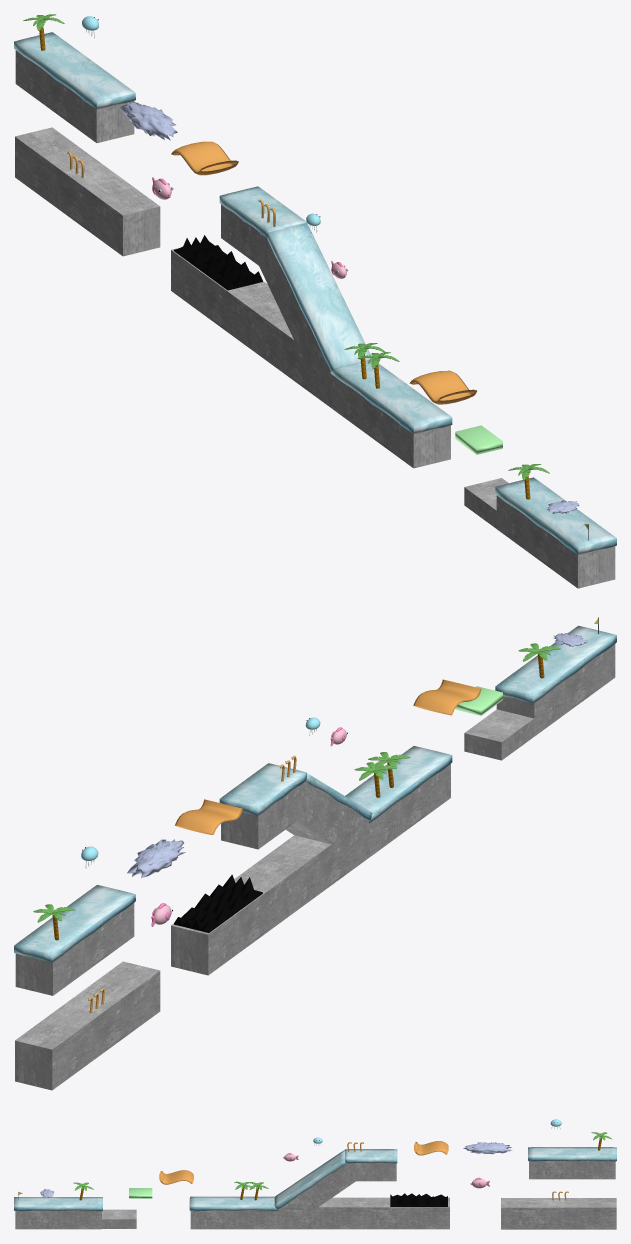
The model's file is sea1.fbx.
The picture shows the model from 3 angles, top to bottom: view 1: azimuth 30°, elevation 25°; view 2: azimuth 150°, elevation 25°; view 3: azimuth 270°, elevation 25°; orthographic projection. The views are drawn at different scales.
Parts seen in each view (by area): view 1: Road.004, up.002, Road.003, Road, up.001, Road.002, up, trap, BezierCurve.005, BezierCurve, cloud.001, Road.001 (+1 smaller); view 2: Road.004, Road.003, up.002, Road.002, up.001, up, Road, Road.001, trap, BezierCurve, BezierCurve.005, cloud.001 (+2 smaller); view 3: Road.004, Road.003, up.002, Road, Road.002, up.001, up, Road.001, trap, cloud.001, BezierCurve, BezierCurve.005 (+2 smaller).
Boxes of the visible parts, x1,y1,x2,y2 form: Road.004: (171, 204, 450, 468); up.002: (219, 186, 452, 433); Road.003: (15, 127, 160, 256); Road: (496, 495, 615, 588); up.001: (14, 32, 135, 109); Road.002: (15, 50, 134, 142); up: (495, 477, 616, 554); trap: (174, 235, 262, 290); BezierCurve.005: (171, 141, 238, 175); BezierCurve: (409, 370, 476, 404); cloud.001: (120, 101, 177, 140); Road.001: (464, 478, 508, 528); Road.004: (171, 764, 450, 975); Road.003: (15, 961, 160, 1090); up.002: (219, 746, 452, 823); Road.002: (15, 903, 134, 995); up.001: (14, 885, 135, 962); up: (495, 625, 616, 703); Road: (496, 644, 615, 736); Road.001: (464, 709, 534, 760); trap: (174, 874, 262, 932); BezierCurve: (413, 679, 481, 715); BezierCurve.005: (175, 799, 242, 834); cloud.001: (127, 839, 185, 877); Road.004: (190, 1163, 449, 1229); Road.003: (501, 1198, 616, 1229); up.002: (189, 1149, 397, 1210); Road: (15, 1210, 101, 1229); Road.002: (529, 1160, 615, 1179); up.001: (528, 1147, 616, 1161); up: (14, 1197, 102, 1211); Road.001: (102, 1209, 136, 1228); trap: (390, 1193, 447, 1206); cloud.001: (463, 1142, 512, 1154); BezierCurve: (159, 1170, 193, 1184); BezierCurve.005: (414, 1141, 448, 1155).
Size of the model in its own units: 527 by 2408 by 12521.
